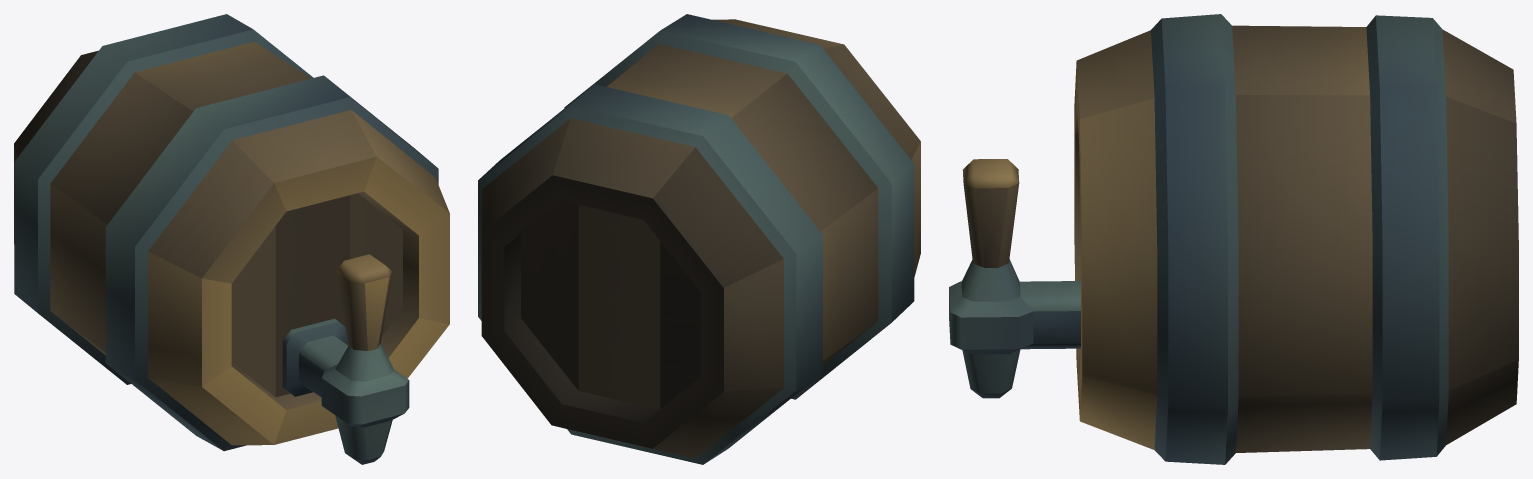
The model's file is kask_tap.fbx.
3 views of the same model, side by side, from view 1: azimuth 30°, elevation 25°; view 2: azimuth 150°, elevation 25°; view 3: azimuth 270°, elevation 25° (orthographic). The views are drawn at different scales.
Visible parts, largest first — view 1: kask_tap; view 2: kask_tap; view 3: kask_tap.
Part boxes in pixels (x1,y1,x2,y2): kask_tap: [14, 14, 449, 464]; kask_tap: [478, 14, 920, 464]; kask_tap: [949, 14, 1518, 464].
Bounding box in the file's own units: 91.03 × 90.86 × 124.
